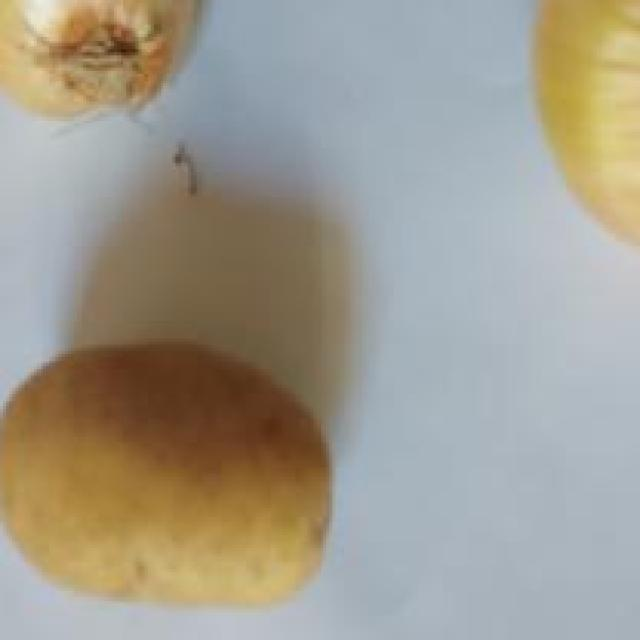onion: (0, 0, 203, 129)
potato: (0, 332, 332, 615)
